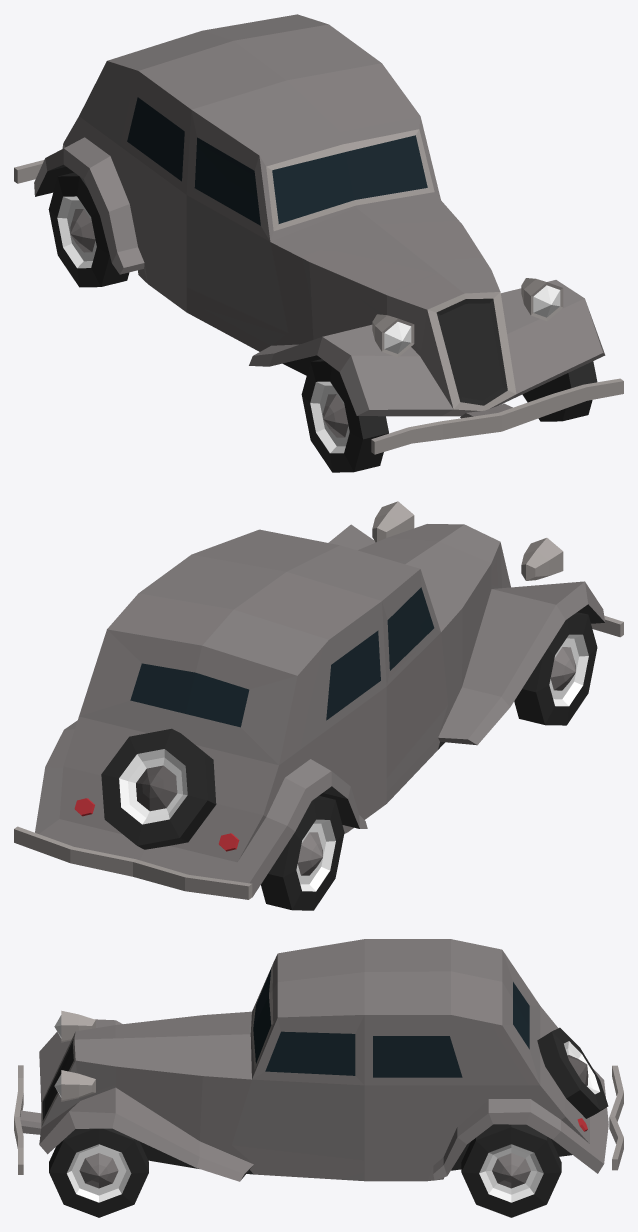
File: car-veteran.glb
3 views of the same model, one above another, from view 1: azimuth 30°, elevation 25°; view 2: azimuth 150°, elevation 25°; view 3: azimuth 270°, elevation 25° (orthographic). The views are drawn at different scales.
Parts seen in each view (by area): view 1: car-veteran-base, car-veteran-wheel_FR, car-veteran-wheel_BR, car-veteran-wheel_FL; view 2: car-veteran-base, car-veteran-wheel_BR, car-veteran-wheel_FR; view 3: car-veteran-base, car-veteran-wheel_BL, car-veteran-wheel_FL.
Boxes of the visible parts, <box> form: car-veteran-base: <box>14,14,623,454</box>; car-veteran-wheel_FR: <box>301,359,388,472</box>; car-veteran-wheel_BR: <box>48,172,129,287</box>; car-veteran-wheel_FL: <box>522,361,597,421</box>; car-veteran-base: <box>14,501,623,899</box>; car-veteran-wheel_BR: <box>261,796,344,910</box>; car-veteran-wheel_FR: <box>514,612,597,725</box>; car-veteran-base: <box>14,939,623,1181</box>; car-veteran-wheel_BL: <box>461,1124,561,1217</box>; car-veteran-wheel_FL: <box>49,1128,148,1217</box>.
Size of the model in its own units: 1.72 by 1.59 by 4.4.
1 material, 1 textured.
